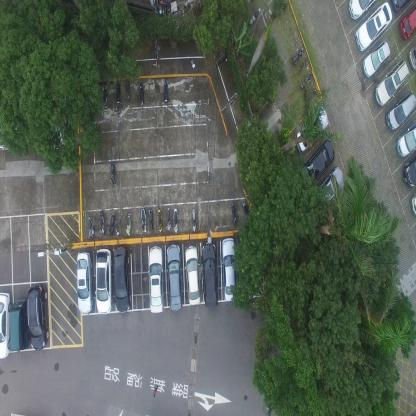car: (354, 0, 393, 53), (294, 103, 329, 156), (374, 59, 410, 106), (302, 136, 335, 184), (313, 165, 345, 209), (28, 282, 48, 350), (384, 90, 416, 132), (111, 246, 130, 313), (166, 242, 184, 312), (201, 240, 219, 308), (147, 244, 164, 313), (361, 39, 390, 79), (220, 236, 238, 300), (95, 249, 112, 315), (10, 295, 28, 353), (184, 245, 201, 306), (76, 252, 92, 314), (396, 117, 416, 159), (0, 290, 11, 361), (397, 4, 415, 41), (348, 0, 376, 22), (402, 156, 416, 190), (406, 44, 416, 72), (390, 0, 412, 12)
